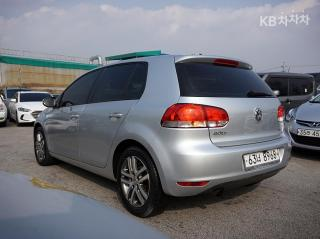3: (252, 154, 257, 164)
6: (248, 155, 253, 165), (269, 150, 274, 160)
8: (262, 152, 267, 162), (273, 150, 277, 159)
9: (266, 151, 270, 161)
너: (256, 154, 262, 163)
